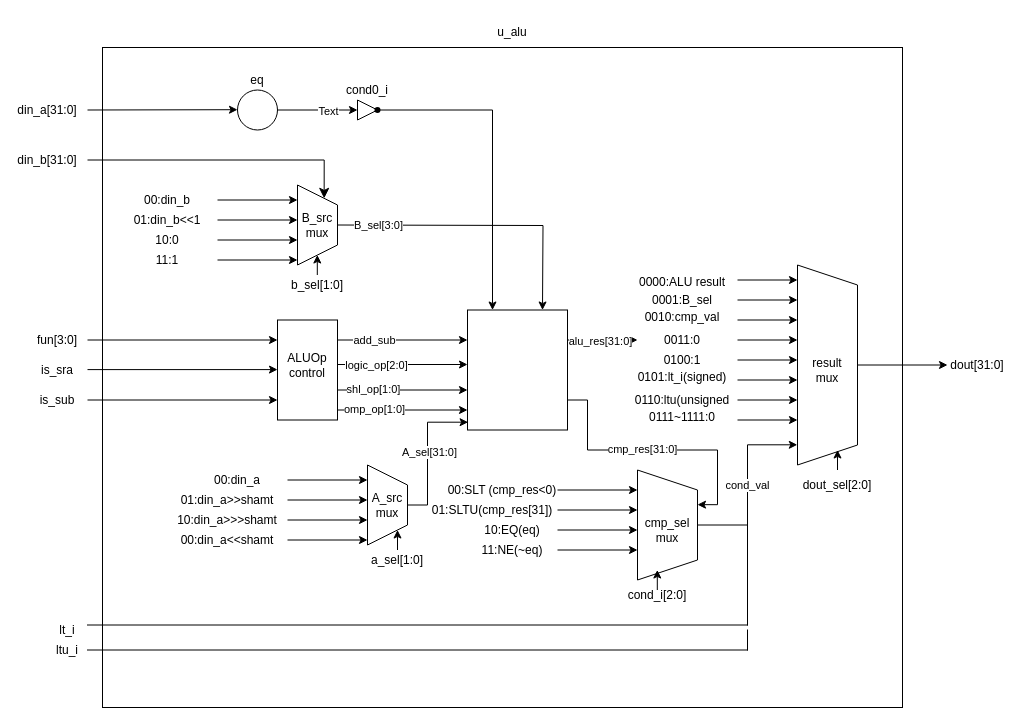
This 1024x725 diagram has some shape labels left out. Each missing label, with the centre of its shape:
"32_bit ALU" belongs at pixel 517 369.
"A==B" belongs at pixel 257 109.
